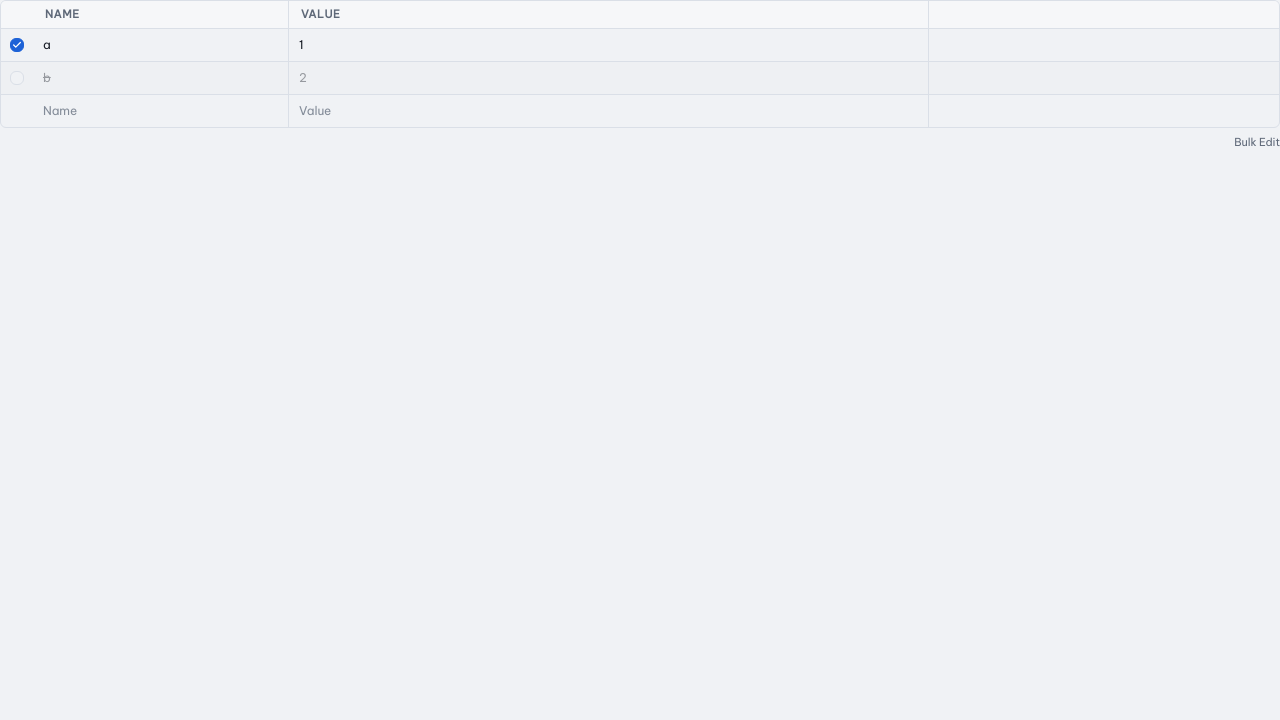
KeyValueEditor — bulk edit › round-trips rows through the textarea, keeping disabled ones marked
Click the button "Bulk Edit" at (1257, 142), box top-left (1234, 134), bottom-right (1279, 150)
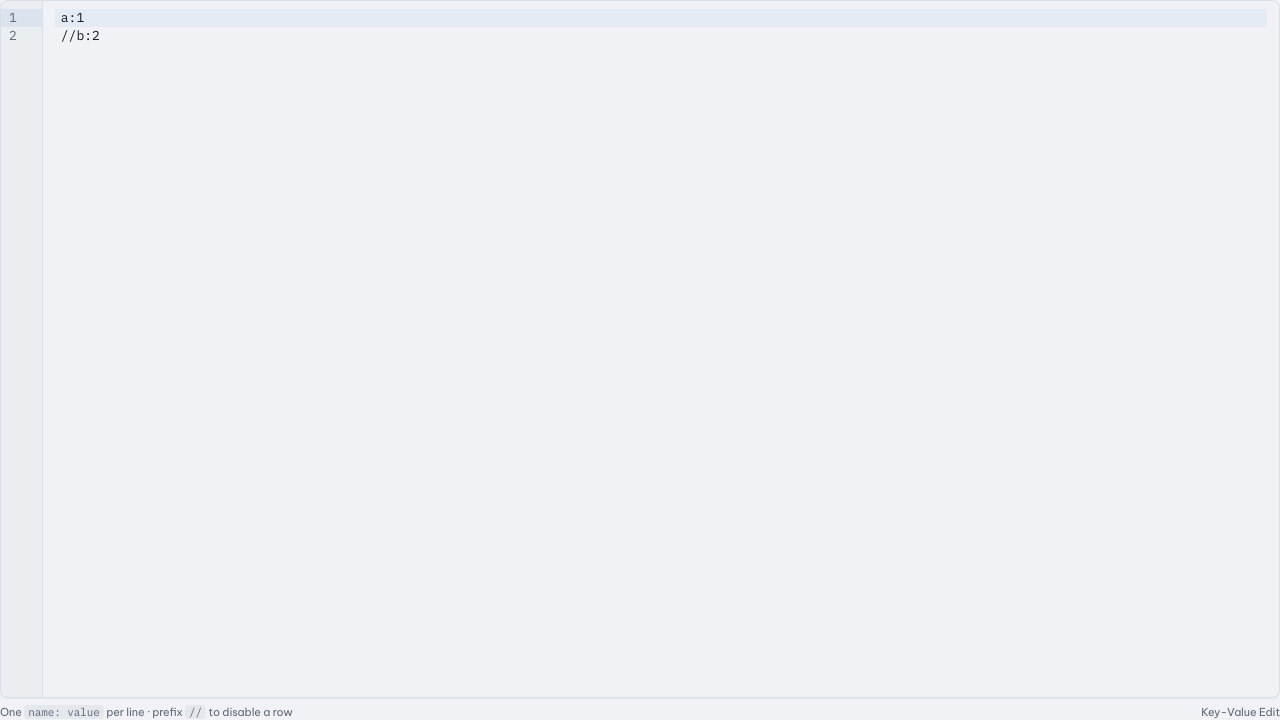
Check: the field with class "cm-content" shows "a:1", box top-left (55, 9), bottom-right (1267, 44)
Check: the field with class "cm-content" shows "//b:2", box top-left (55, 9), bottom-right (1267, 44)
